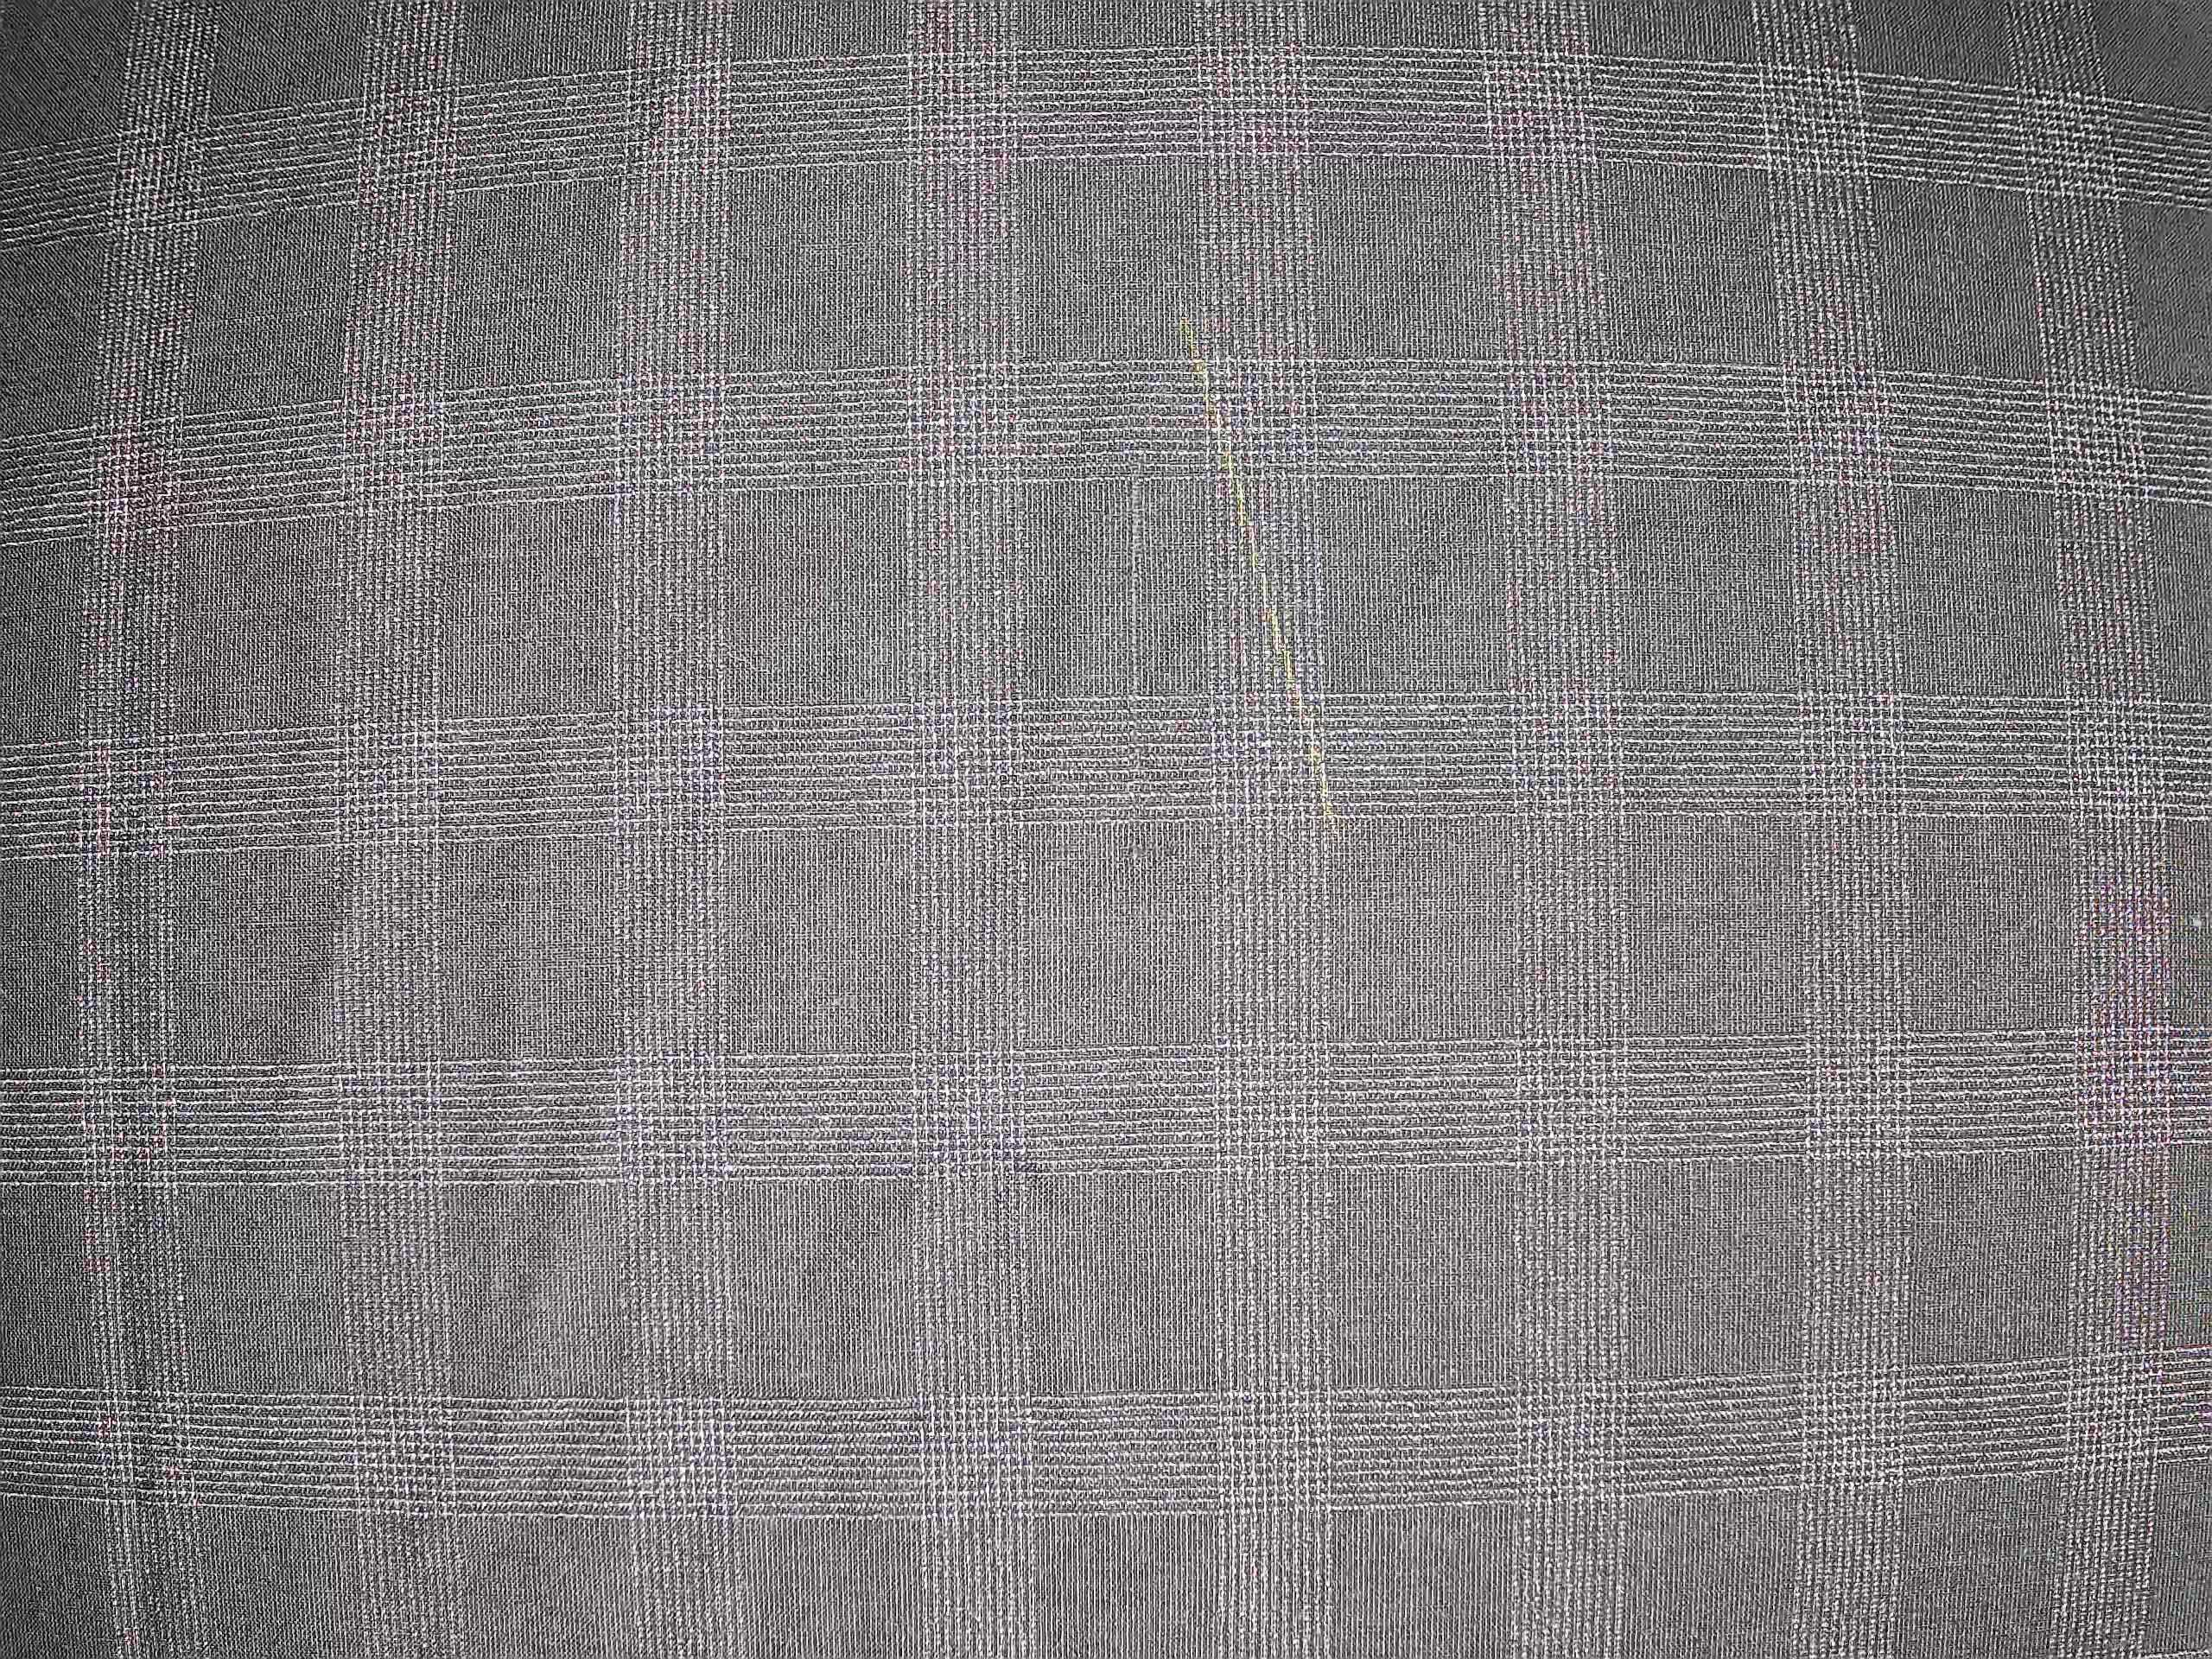jumps: (1106, 464, 1162, 709)
